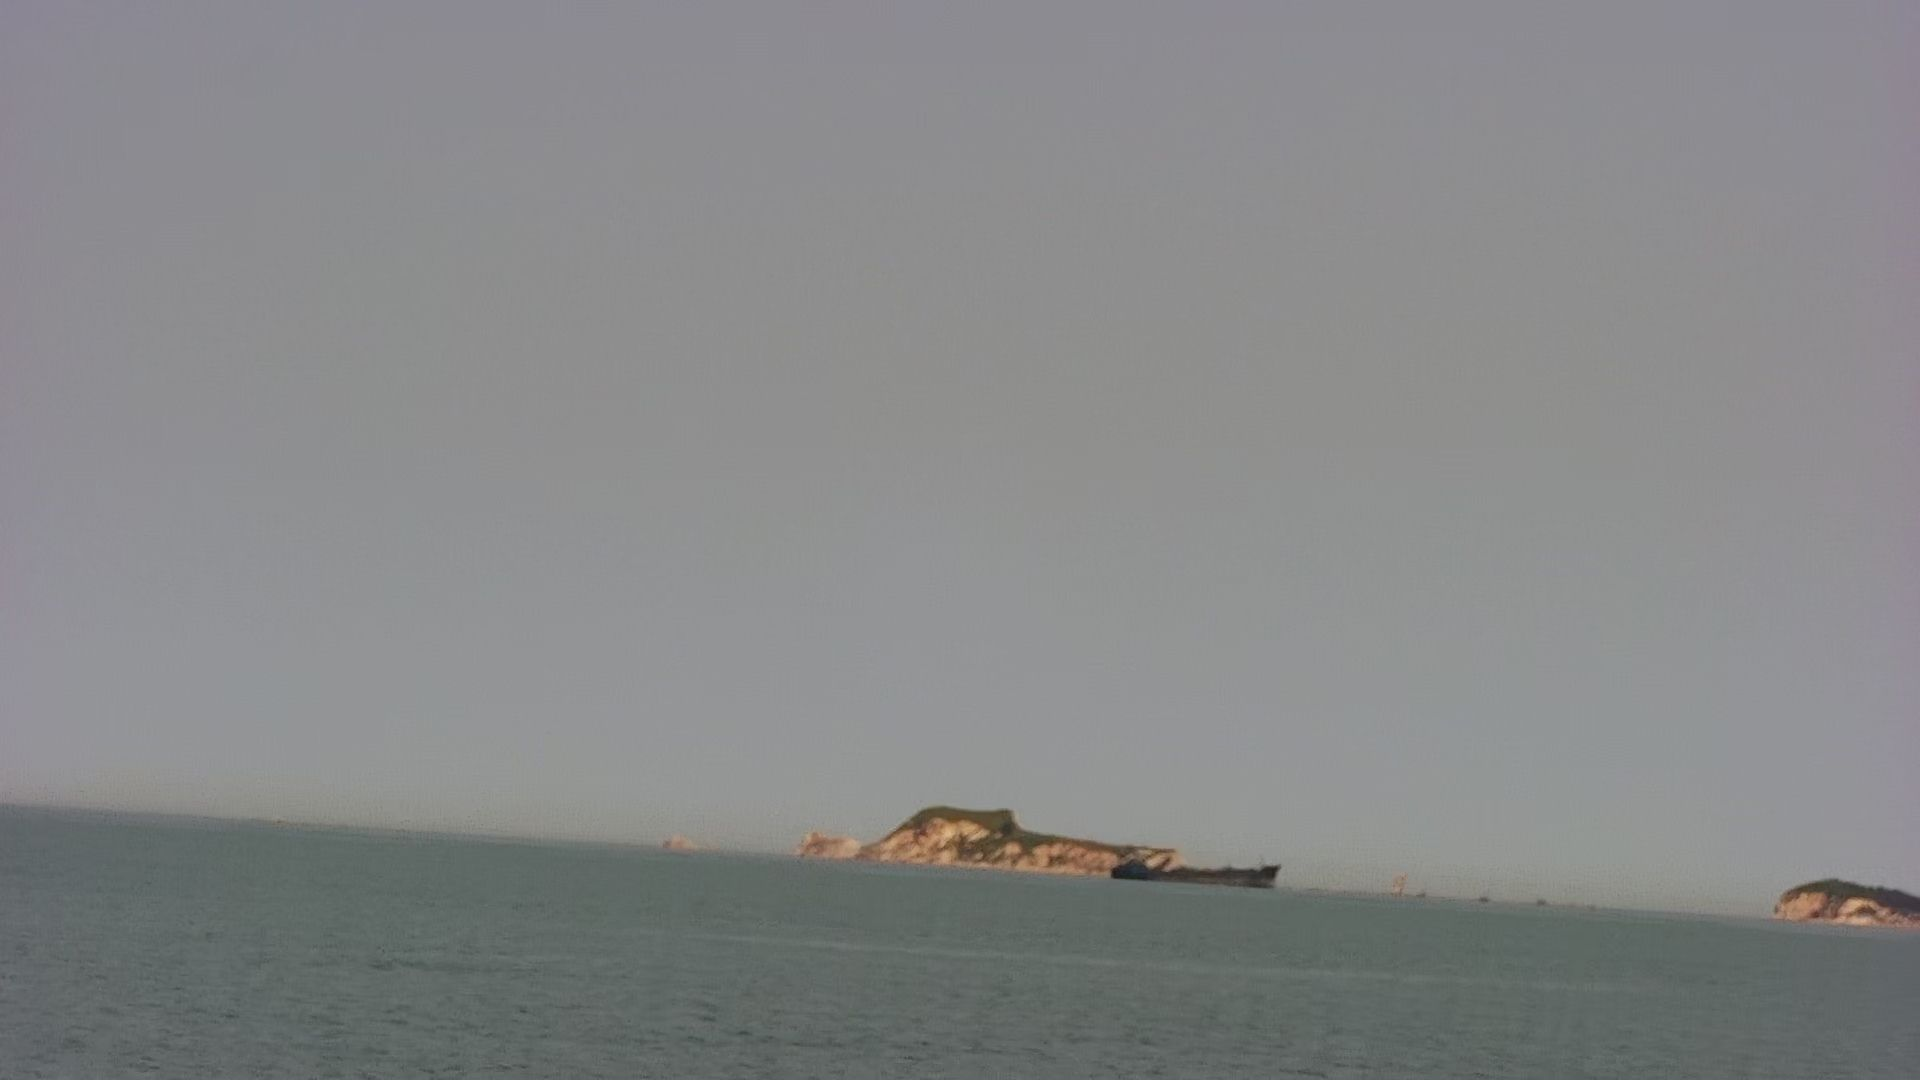rock: (767, 794, 1205, 872), (1764, 864, 1920, 923)
ship: (1112, 855, 1284, 887)
